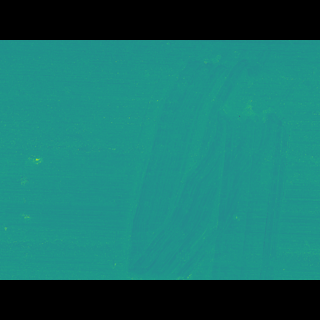Loch: (115, 75, 299, 251)
